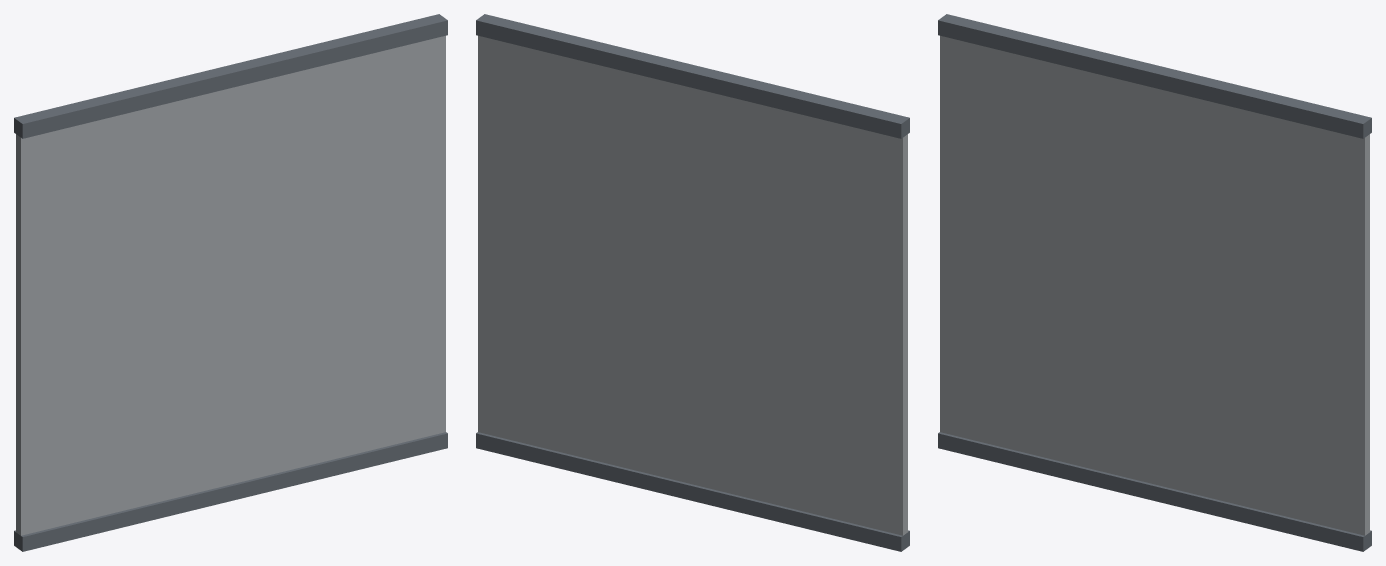
Rendered from CubicalWall_03.FBX.
3 renders of one model, left to right at view 1: azimuth 30°, elevation 25°; view 2: azimuth 150°, elevation 25°; view 3: azimuth 330°, elevation 25°, orthographic.
Parts seen in each view (by area): view 1: CubicalWall_Tall_01; view 2: CubicalWall_Tall_01; view 3: CubicalWall_Tall_01.
Boxes of the visible parts, x1,y1,x2,y2 form: CubicalWall_Tall_01: (14, 14, 447, 551); CubicalWall_Tall_01: (476, 14, 909, 551); CubicalWall_Tall_01: (938, 14, 1371, 551).
Size of the model in its own units: 200 by 192 by 7.06.
